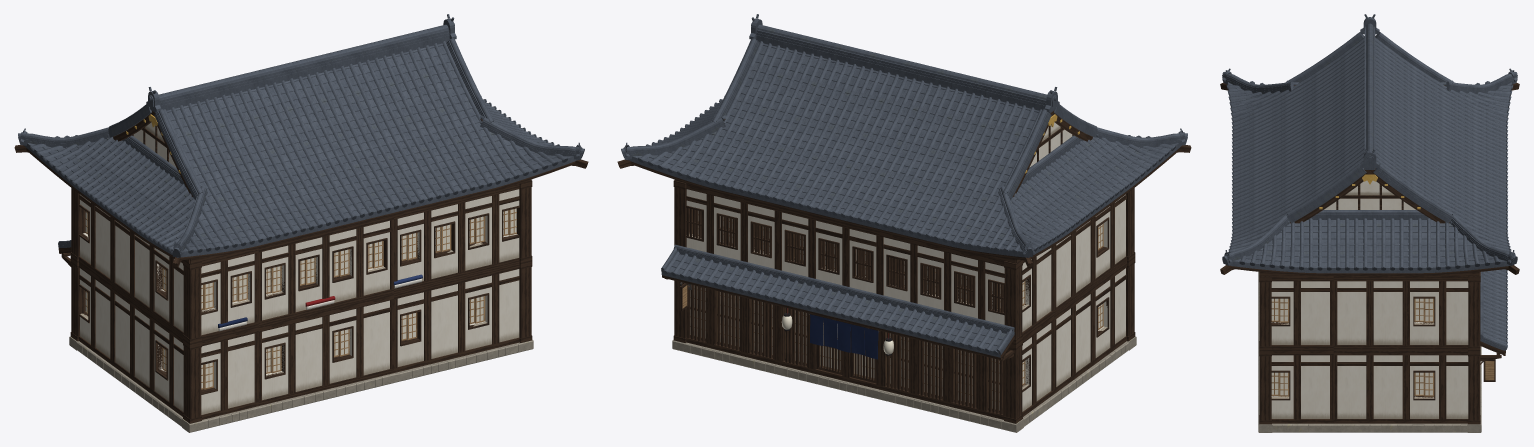
File: HO_Bldg_TidewatchInn.fbx
3 views of the same model, side by side, from view 1: azimuth 30°, elevation 25°; view 2: azimuth 150°, elevation 25°; view 3: azimuth 270°, elevation 25° (orthographic). The views are drawn at different scales.
Visible parts, largest first — view 1: HO_Bldg_TidewatchInn_RoofTilesB, HO_Bldg_TidewatchInn_Structure_GF, HO_Bldg_TidewatchInn_Structure_2F, HO_Bldg_TidewatchInn_RoofTilesA, HO_Bldg_TidewatchInn_Structure, HO_Bldg_TidewatchInn_RoofFrame, HO_Bldg_TidewatchInn_Interior_2F; view 2: HO_Bldg_TidewatchInn_RoofTilesB, HO_Bldg_TidewatchInn_Structure_2F, HO_Bldg_TidewatchInn_RoofTilesA, HO_Bldg_TidewatchInn_Structure_GF, HO_Bldg_TidewatchInn_Front, HO_Bldg_TidewatchInn_Structure, HO_Bldg_TidewatchInn_RoofFrame, HO_Bldg_TidewatchInn_Door1, HO_Bldg_TidewatchInn_Door2; view 3: HO_Bldg_TidewatchInn_RoofTilesA, HO_Bldg_TidewatchInn_RoofTilesB, HO_Bldg_TidewatchInn_Structure_GF, HO_Bldg_TidewatchInn_Structure_2F, HO_Bldg_TidewatchInn_RoofFrame, HO_Bldg_TidewatchInn_Structure, HO_Bldg_TidewatchInn_Front.
Part boxes in pixels (bbox=[...]): HO_Bldg_TidewatchInn_RoofTilesB: bbox=[18, 60, 374, 257]; HO_Bldg_TidewatchInn_Structure_GF: bbox=[70, 257, 532, 423]; HO_Bldg_TidewatchInn_Structure_2F: bbox=[70, 180, 532, 343]; HO_Bldg_TidewatchInn_RoofTilesA: bbox=[297, 14, 584, 217]; HO_Bldg_TidewatchInn_Structure: bbox=[69, 336, 533, 432]; HO_Bldg_TidewatchInn_RoofFrame: bbox=[14, 110, 588, 268]; HO_Bldg_TidewatchInn_Interior_2F: bbox=[218, 274, 422, 331]; HO_Bldg_TidewatchInn_RoofTilesB: bbox=[831, 60, 1187, 257]; HO_Bldg_TidewatchInn_Structure_2F: bbox=[673, 180, 1135, 343]; HO_Bldg_TidewatchInn_RoofTilesA: bbox=[621, 14, 908, 217]; HO_Bldg_TidewatchInn_Structure_GF: bbox=[673, 257, 1135, 423]; HO_Bldg_TidewatchInn_Front: bbox=[661, 244, 1014, 361]; HO_Bldg_TidewatchInn_Structure: bbox=[672, 336, 1136, 432]; HO_Bldg_TidewatchInn_RoofFrame: bbox=[617, 110, 1191, 268]; HO_Bldg_TidewatchInn_Door1: bbox=[850, 327, 876, 383]; HO_Bldg_TidewatchInn_Door2: bbox=[816, 320, 842, 374]; HO_Bldg_TidewatchInn_RoofTilesA: bbox=[1222, 89, 1517, 273]; HO_Bldg_TidewatchInn_RoofTilesB: bbox=[1222, 14, 1517, 179]; HO_Bldg_TidewatchInn_Structure_GF: bbox=[1259, 349, 1480, 424]; HO_Bldg_TidewatchInn_Structure_2F: bbox=[1259, 272, 1480, 350]; HO_Bldg_TidewatchInn_RoofFrame: bbox=[1220, 36, 1519, 275]; HO_Bldg_TidewatchInn_Structure: bbox=[1258, 271, 1481, 432]; HO_Bldg_TidewatchInn_Front: bbox=[1480, 194, 1507, 381].
Size of the model in its own units: 49.05 by 33.27 by 33.05.
